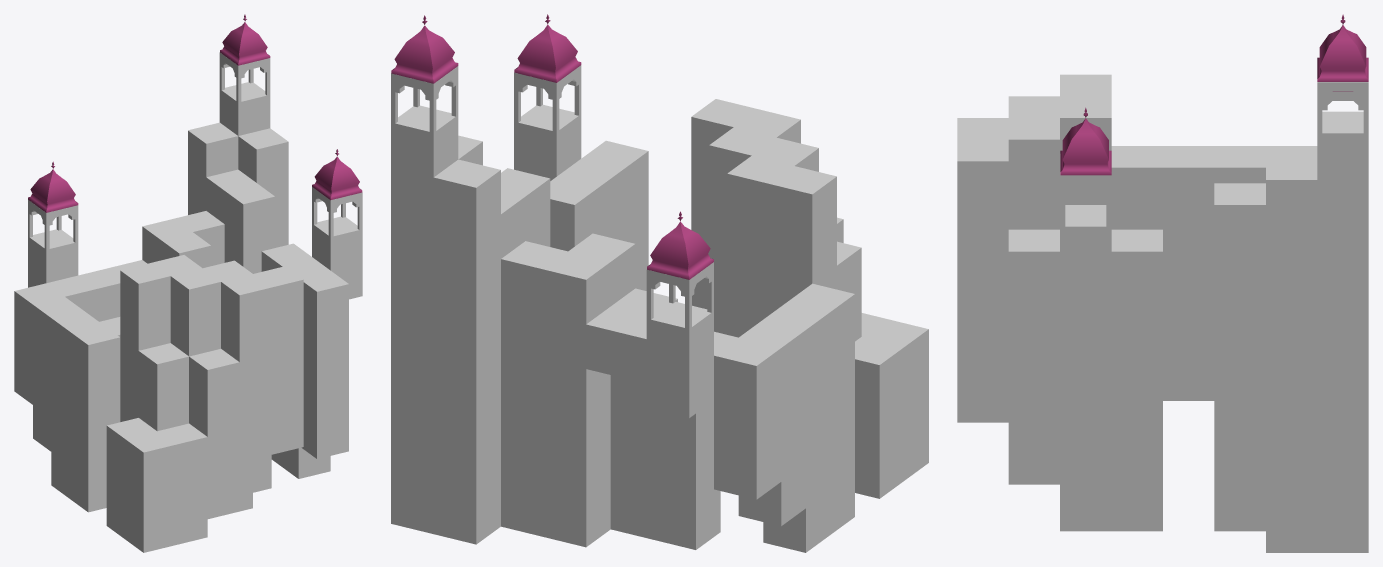
File: s1 main.FBX
3 views of the same model, side by side, from view 1: azimuth 30°, elevation 25°; view 2: azimuth 150°, elevation 25°; view 3: azimuth 270°, elevation 25° (orthographic). The views are drawn at different scales.
Visible parts, largest first — view 1: Box195, Object062, Object061, Object060, Box130; view 2: Box195, Object062, Object061, Object060, Box130; view 3: Box195, Object062, Object061, Object060, Box130.
Part boxes in pixels (<box>): Box195: <box>14,89,362,552</box>; Object062: <box>15,82,358,452</box>; Object061: <box>28,14,362,212</box>; Object060: <box>28,56,362,249</box>; Box130: <box>28,52,362,216</box>; Box195: <box>391,114,928,552</box>; Object062: <box>395,99,928,365</box>; Object061: <box>391,14,713,279</box>; Object060: <box>391,70,713,328</box>; Box130: <box>391,65,713,284</box>; Box195: <box>957,118,1368,552</box>; Object062: <box>957,74,1363,251</box>; Object061: <box>1060,14,1368,175</box>; Object060: <box>1060,86,1368,226</box>; Box130: <box>1060,82,1368,179</box>.
Size of the model in its own units: 800 by 1133 by 800.
